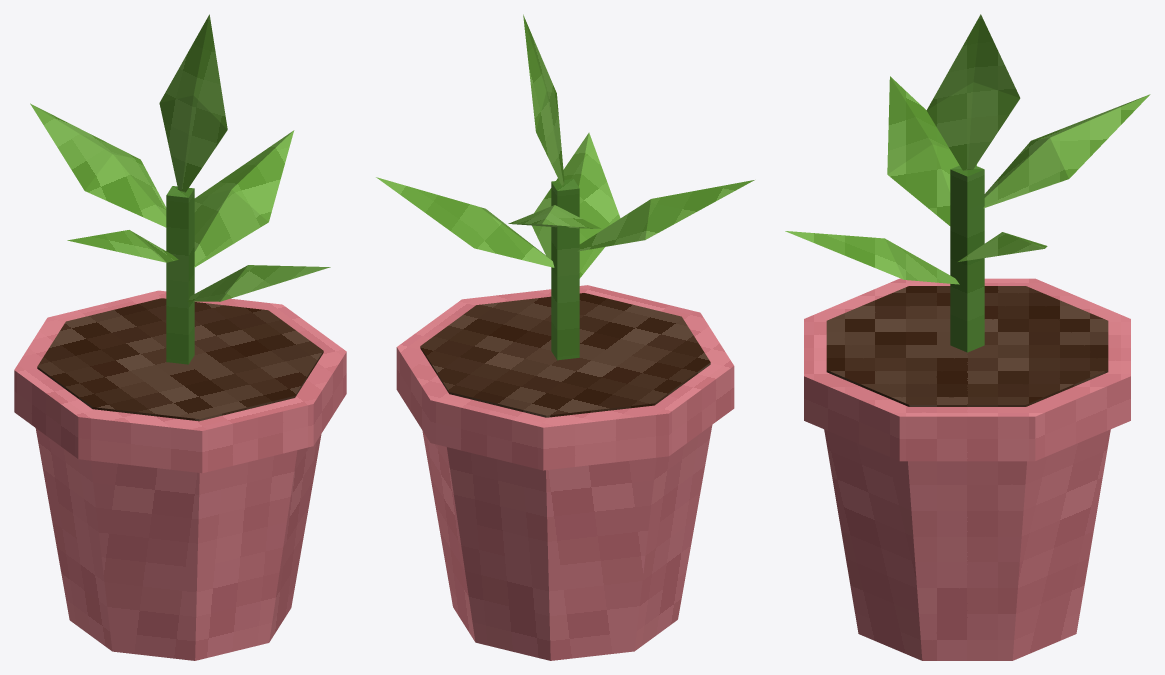
File: potted_plant.glb
3 renders of one model, left to right at view 1: azimuth 30°, elevation 25°; view 2: azimuth 150°, elevation 25°; view 3: azimuth 270°, elevation 25°, orthographic. The views are drawn at different scales.
Visible parts, largest first — view 1: Pot, Soil, Leaves, Stem; view 2: Pot, Soil, Leaves, Stem; view 3: Pot, Soil, Leaves, Stem.
Part boxes in pixels (x1=…): Pot: x1=14, y1=290, x2=346, y2=660; Soil: x1=37, y1=298, x2=323, y2=421; Leaves: x1=30, y1=14, x2=330, y2=301; Stem: x1=166, y1=186, x2=194, y2=364; Pot: x1=396, y1=285, x2=734, y2=660; Soil: x1=420, y1=293, x2=710, y2=417; Leaves: x1=376, y1=14, x2=754, y2=278; Stem: x1=551, y1=179, x2=579, y2=360; Pot: x1=804, y1=278, x2=1130, y2=660; Soil: x1=826, y1=286, x2=1108, y2=406; Leaves: x1=785, y1=14, x2=1150, y2=284; Stem: x1=950, y1=165, x2=984, y2=352.
Bounding box in the file's own units: 0.7464 × 1.39 × 0.7464.
4 materials, 4 textured.
